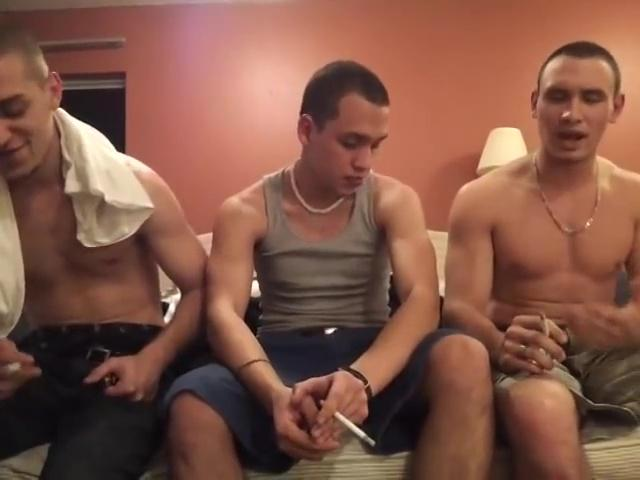cigarette: (332, 408, 379, 448), (537, 310, 552, 338)
